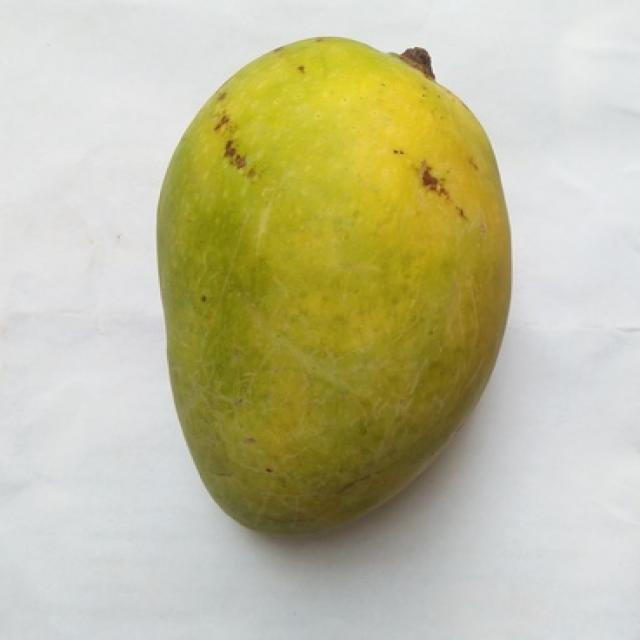Mango: (157, 38, 510, 530)
